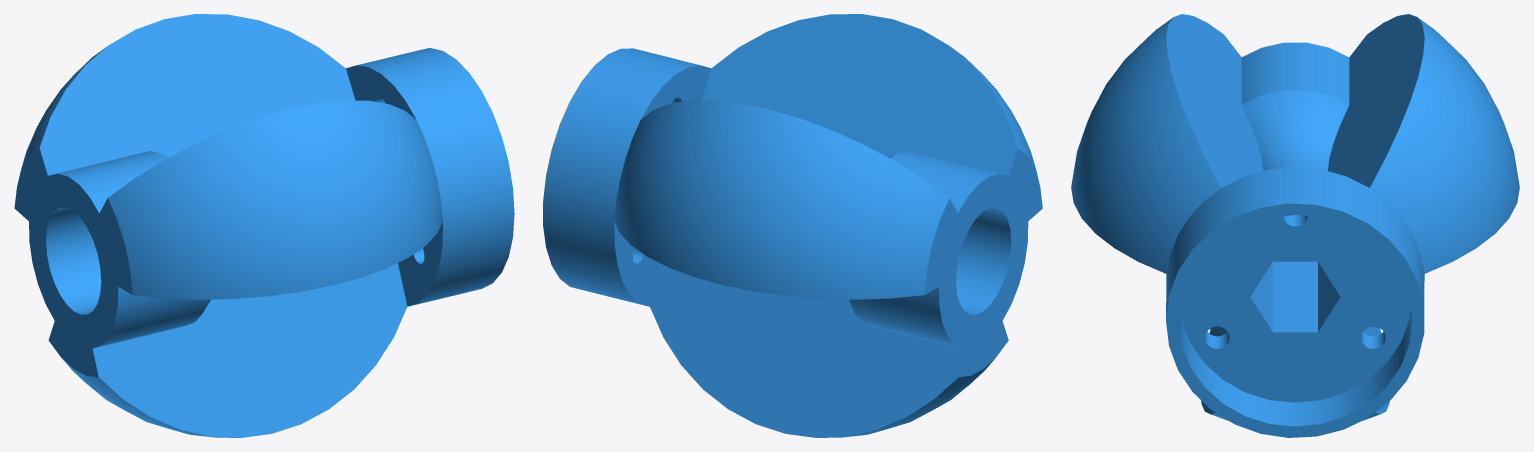
File: manipulator_tip.dae
The picture shows the model from 3 angles, left to right: view 1: azimuth 30°, elevation 25°; view 2: azimuth 150°, elevation 25°; view 3: azimuth 270°, elevation 25°; orthographic projection. The views are drawn at different scales.
Visible parts, largest first — view 1: manipulator_tip; view 2: manipulator_tip; view 3: manipulator_tip.
Part boxes in pixels (x1=…): manipulator_tip: x1=14, y1=14, x2=514, y2=437; manipulator_tip: x1=543, y1=14, x2=1042, y2=437; manipulator_tip: x1=1071, y1=14, x2=1519, y2=437.
Size of the model in its own units: 0.061 by 0.0598 by 0.0545.
